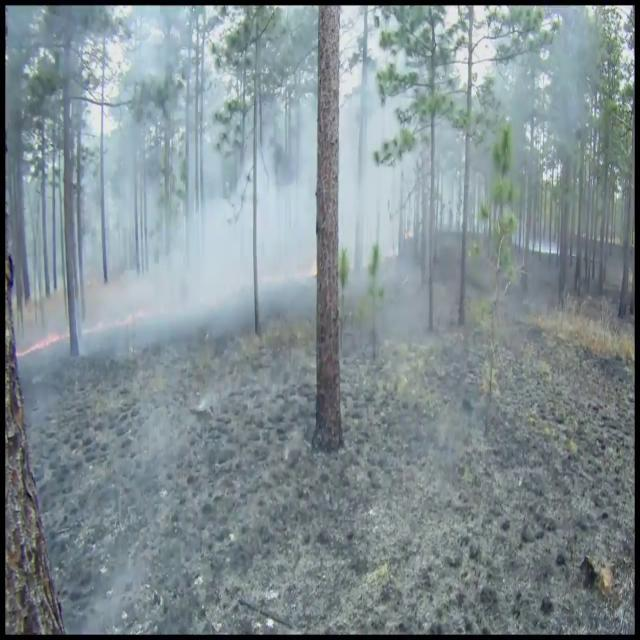Smoke: (29, 14, 573, 398)
